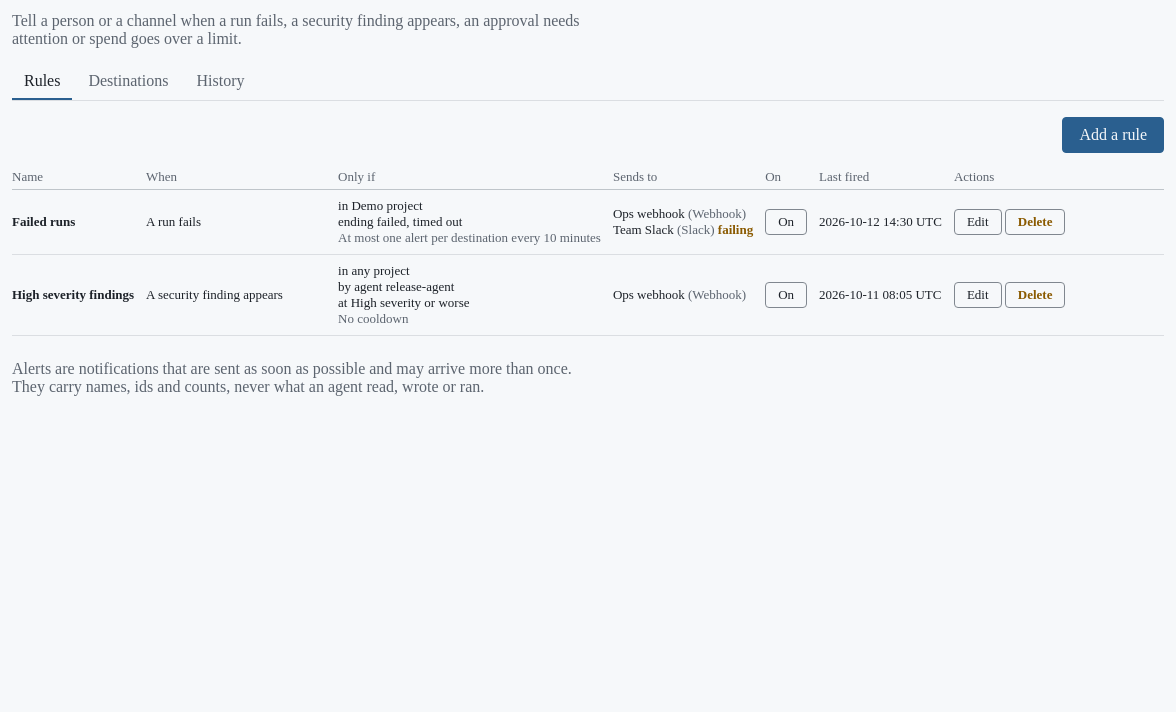
the rule form › security_finding shows only the filters it needs
The width and height of the screenshot is (1176, 712).
Click the button "Add a rule". click: {"x": 1113, "y": 135}
box: [1062, 117, 1164, 153]
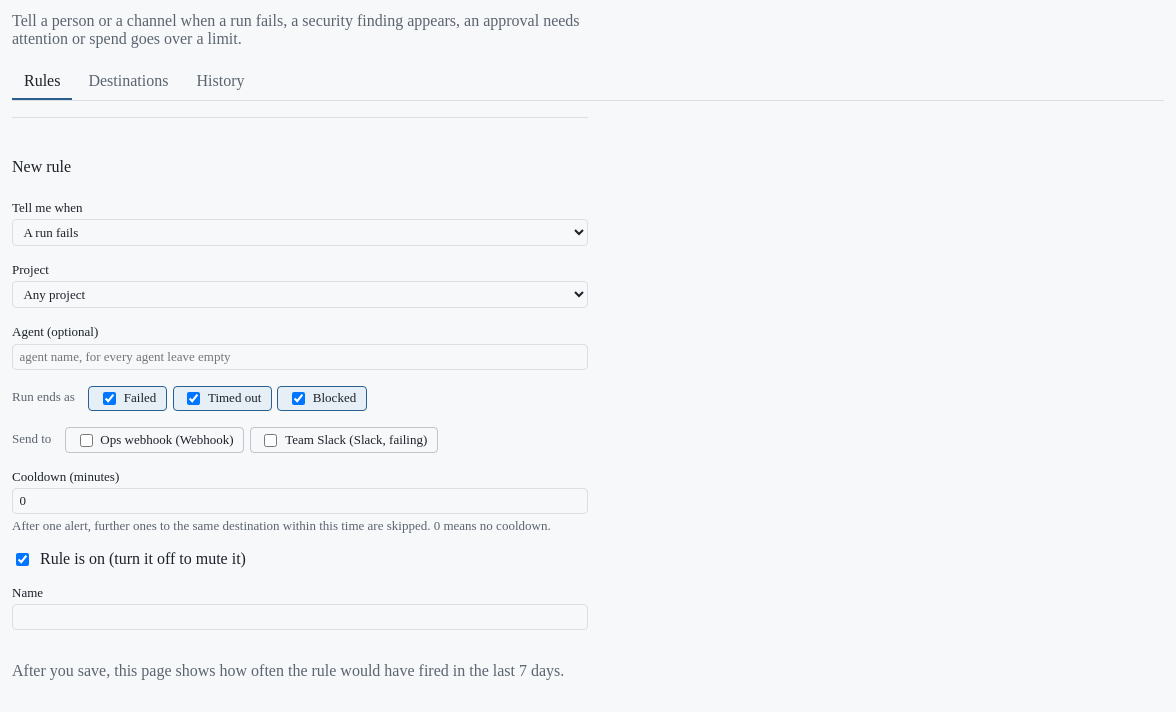
Select "A security finding appears" in the dropdown labelled "Tell me when". click: {"x": 300, "y": 233}
box: [12, 219, 588, 246]
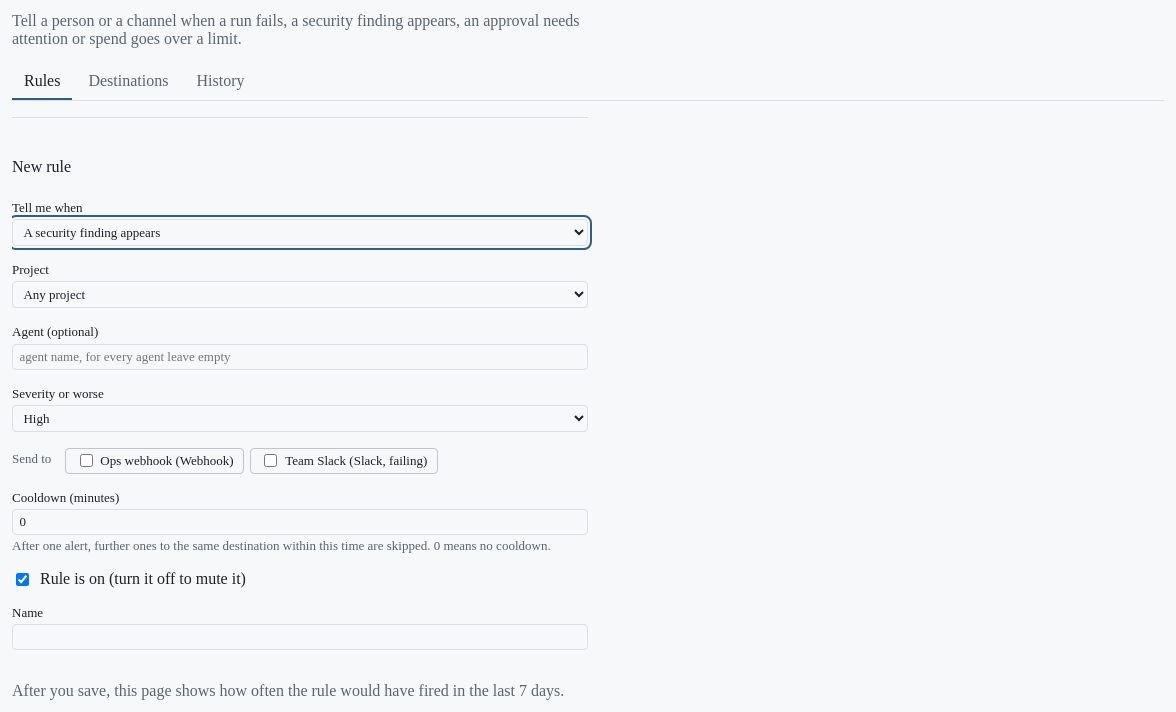
Now the text "Severity or worse" is shown, box [12, 386, 588, 432]
Now the text "Run ends as" is gone
